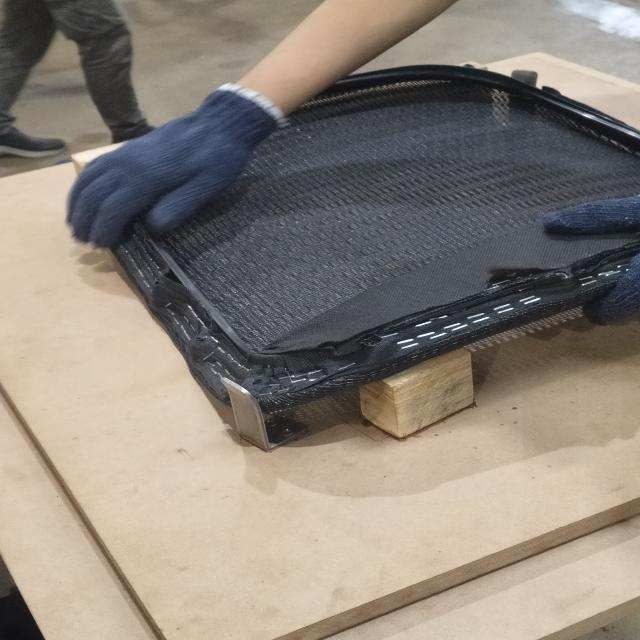Gloves-Detection: (77, 86, 276, 254)
